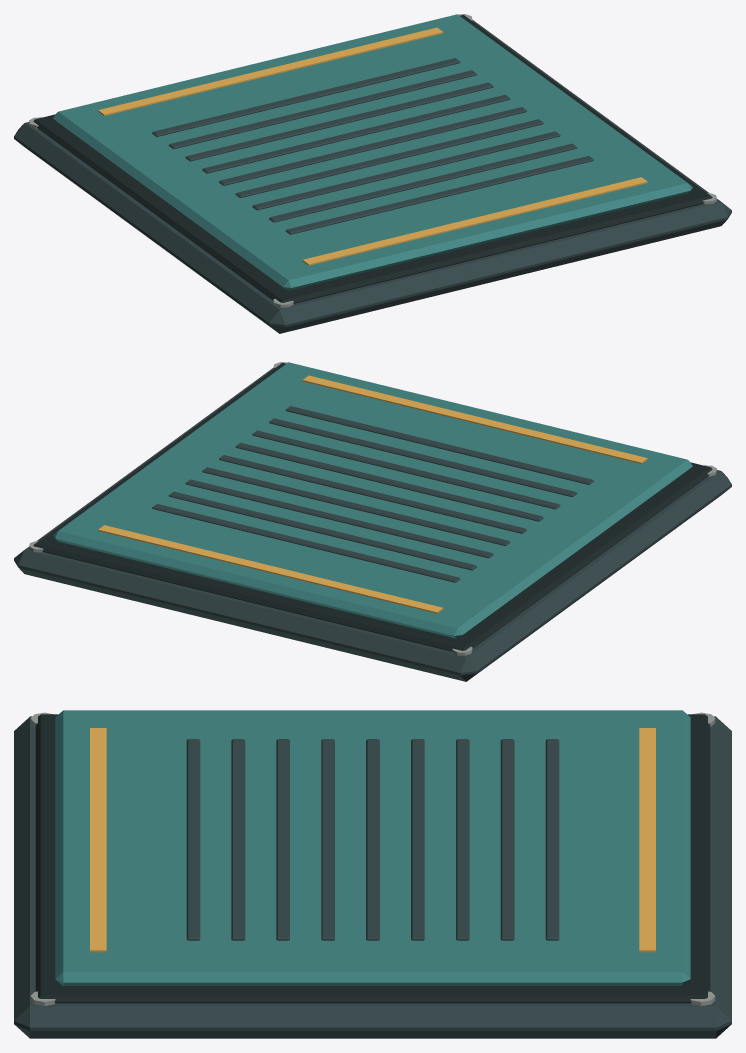
File: wsc-plan-006-pressure-plate.glb
3 renders of one model, top to bottom at view 1: azimuth 30°, elevation 25°; view 2: azimuth 150°, elevation 25°; view 3: azimuth 270°, elevation 25°, orthographic. The views are drawn at different scales.
Parts seen in each view (by area): view 1: Moving_Tread, Fixed_Frame; view 2: Moving_Tread, Fixed_Frame; view 3: Moving_Tread, Fixed_Frame.
Boxes of the visible parts, x1,y1,x2,y2 form: Moving_Tread: (53, 14, 692, 290); Fixed_Frame: (14, 14, 731, 333); Moving_Tread: (53, 362, 692, 638); Fixed_Frame: (14, 362, 731, 681); Moving_Tread: (55, 710, 690, 985); Fixed_Frame: (14, 712, 731, 1038).
Bounding box in the file's own units: 4 × 0.3425 × 4.
